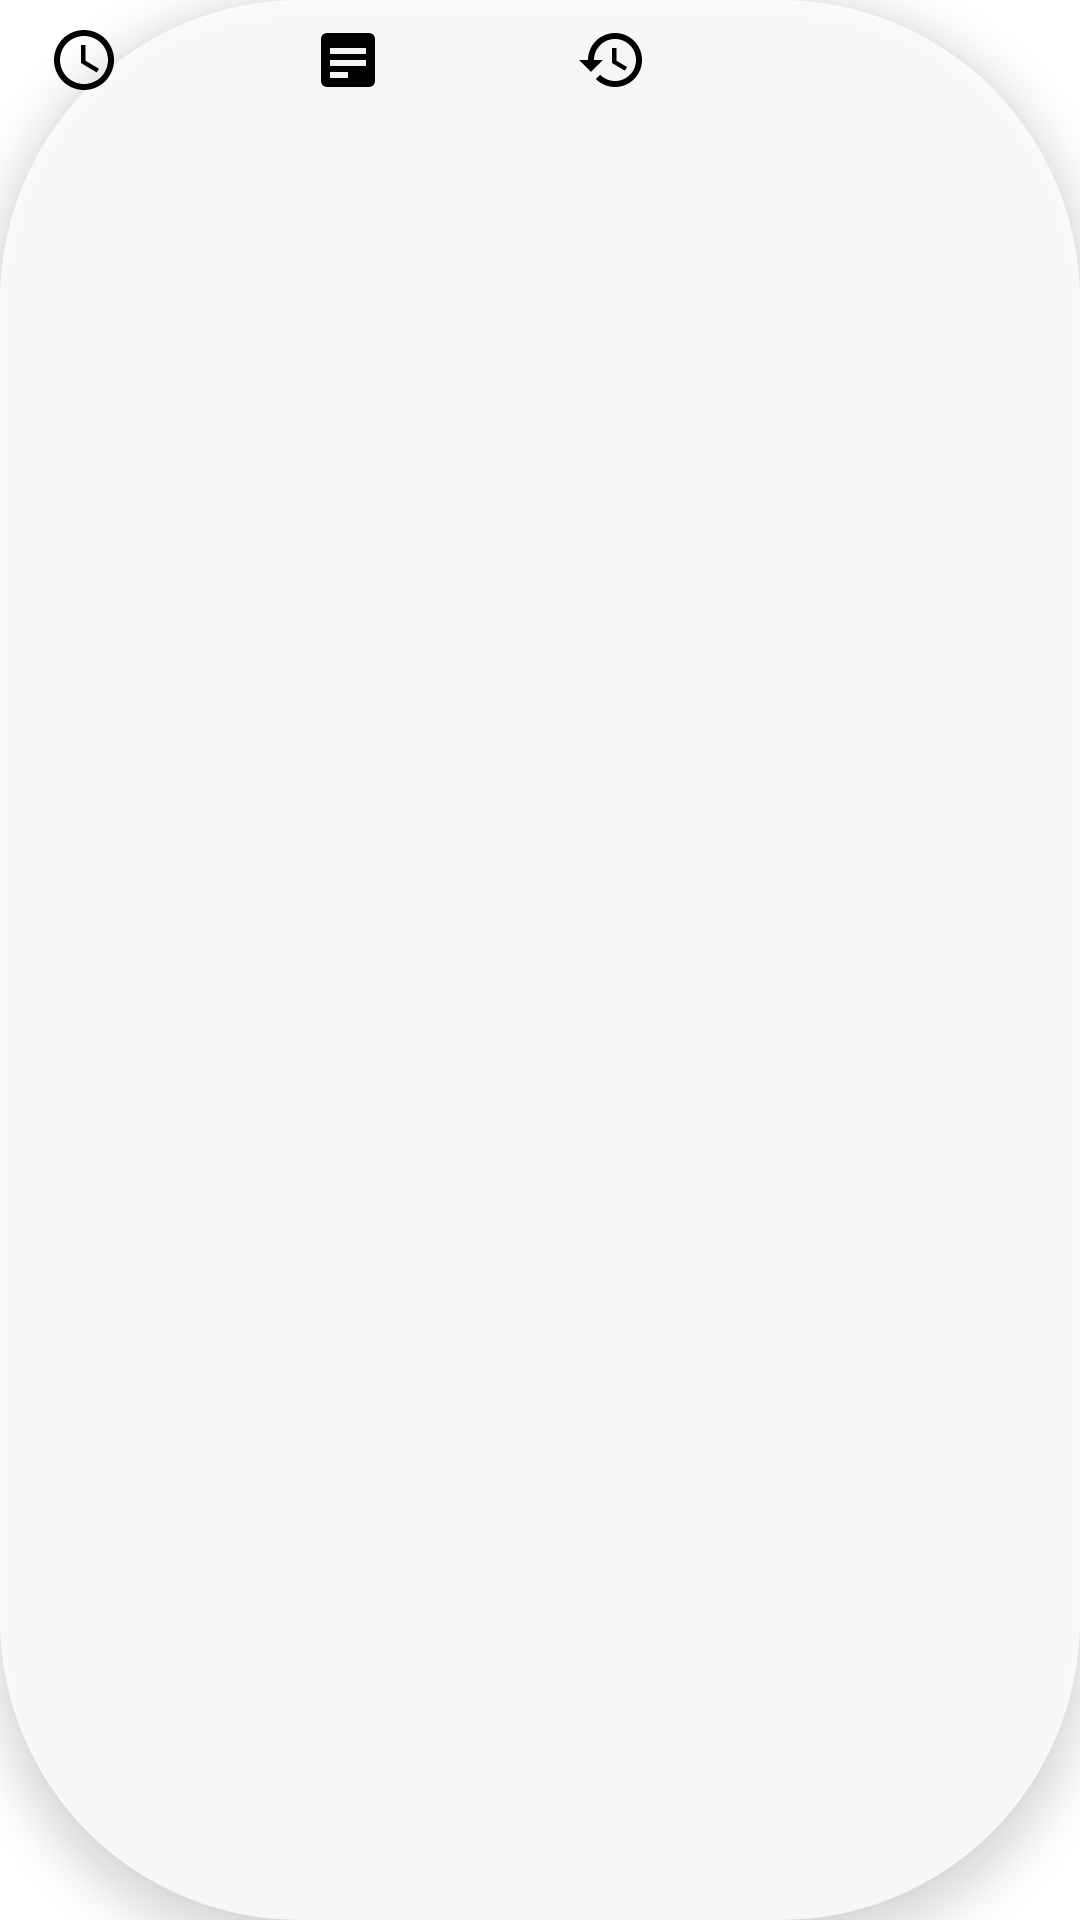

Icons on this 1080x1920 Android screen, each with the point to tap as [x,y]:
route history: [610,60]
